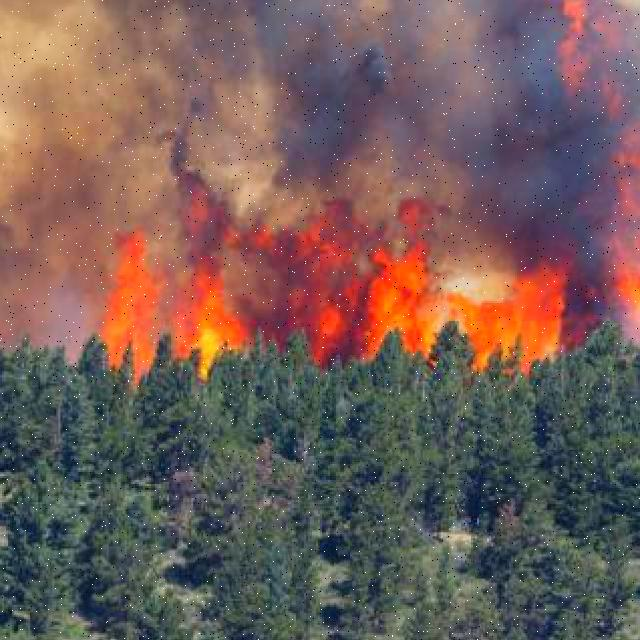fire: (457, 238, 567, 359), (360, 206, 427, 362), (97, 236, 159, 358), (183, 246, 238, 368), (316, 240, 362, 370), (622, 259, 640, 325)
smoke: (221, 223, 334, 341), (569, 237, 618, 335)
